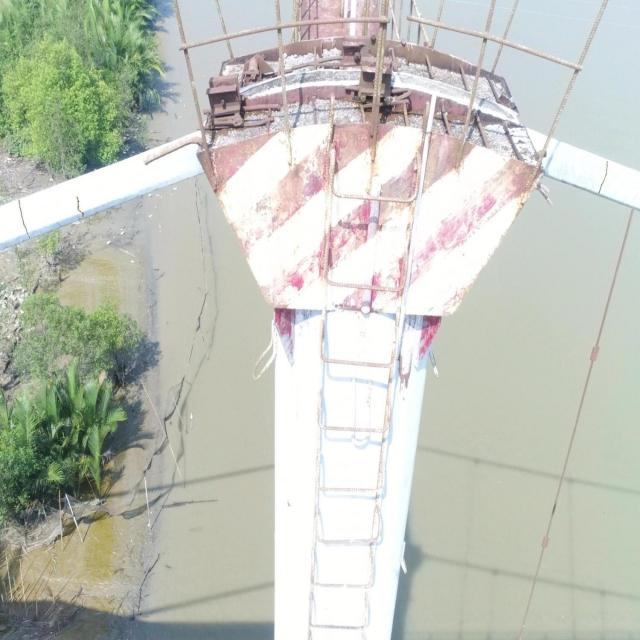crack: (17, 198, 32, 240), (597, 160, 609, 195), (75, 195, 85, 218)
